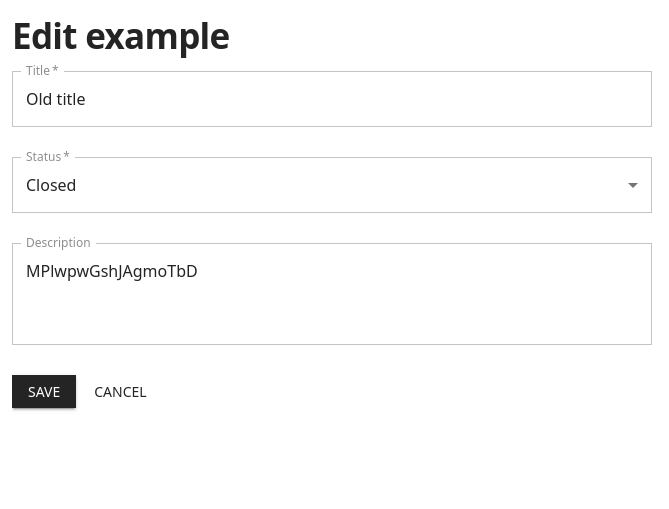
Test: ExampleFormPage › says so when someone else saved the example in between
In the field labelled "Title *": {"x": 332, "y": 99} [12,71,652,127], type "!"
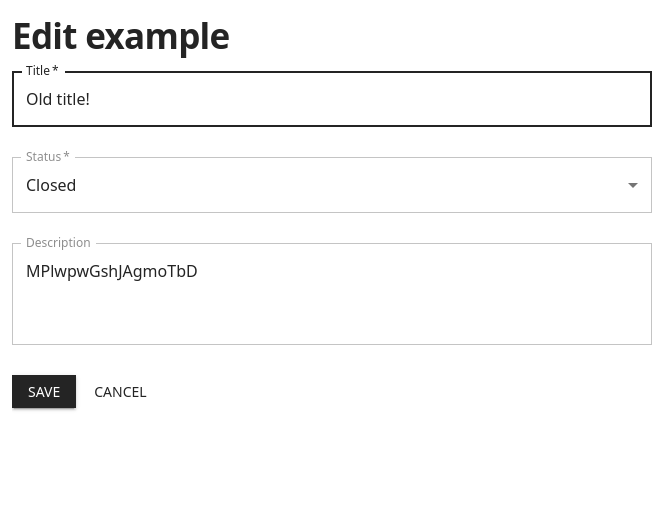
Click the button "Save": {"x": 44, "y": 392} [12,375,76,408]
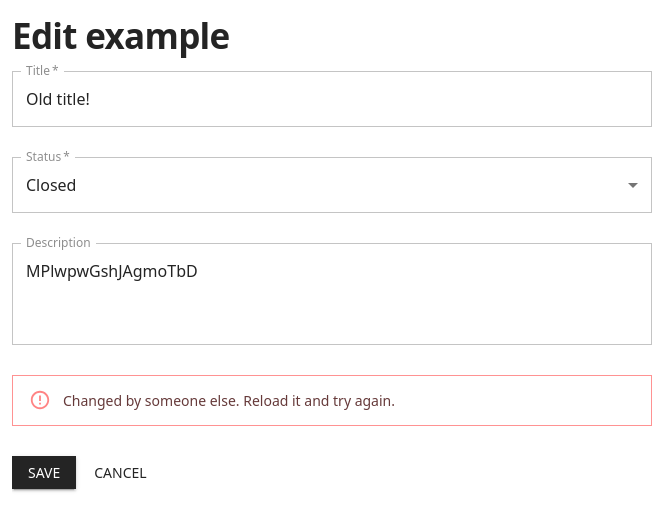
Now the text "Changed by someone else. Reload it and try again." is shown, box [63,391,395,410]
